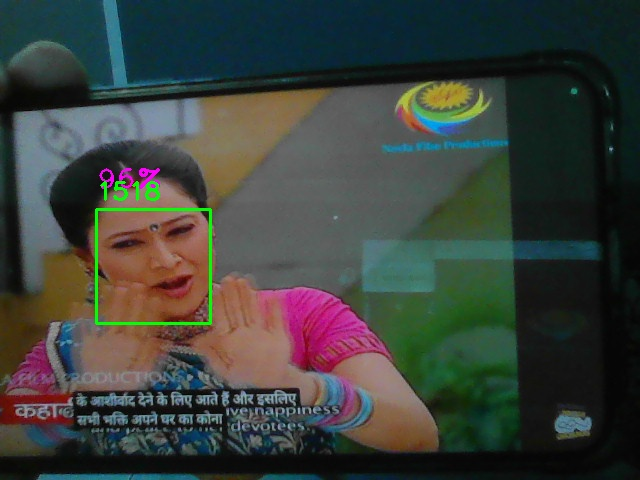fake: (96, 209, 211, 324)
